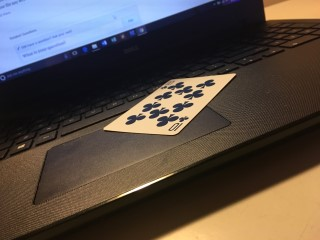TenOfClubs: (103, 73, 236, 135)
